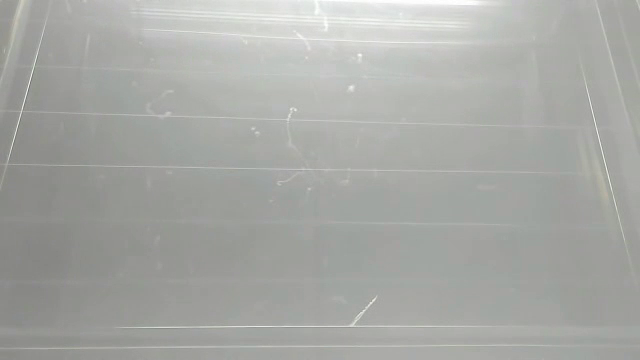alpha: (344, 293, 381, 330)
